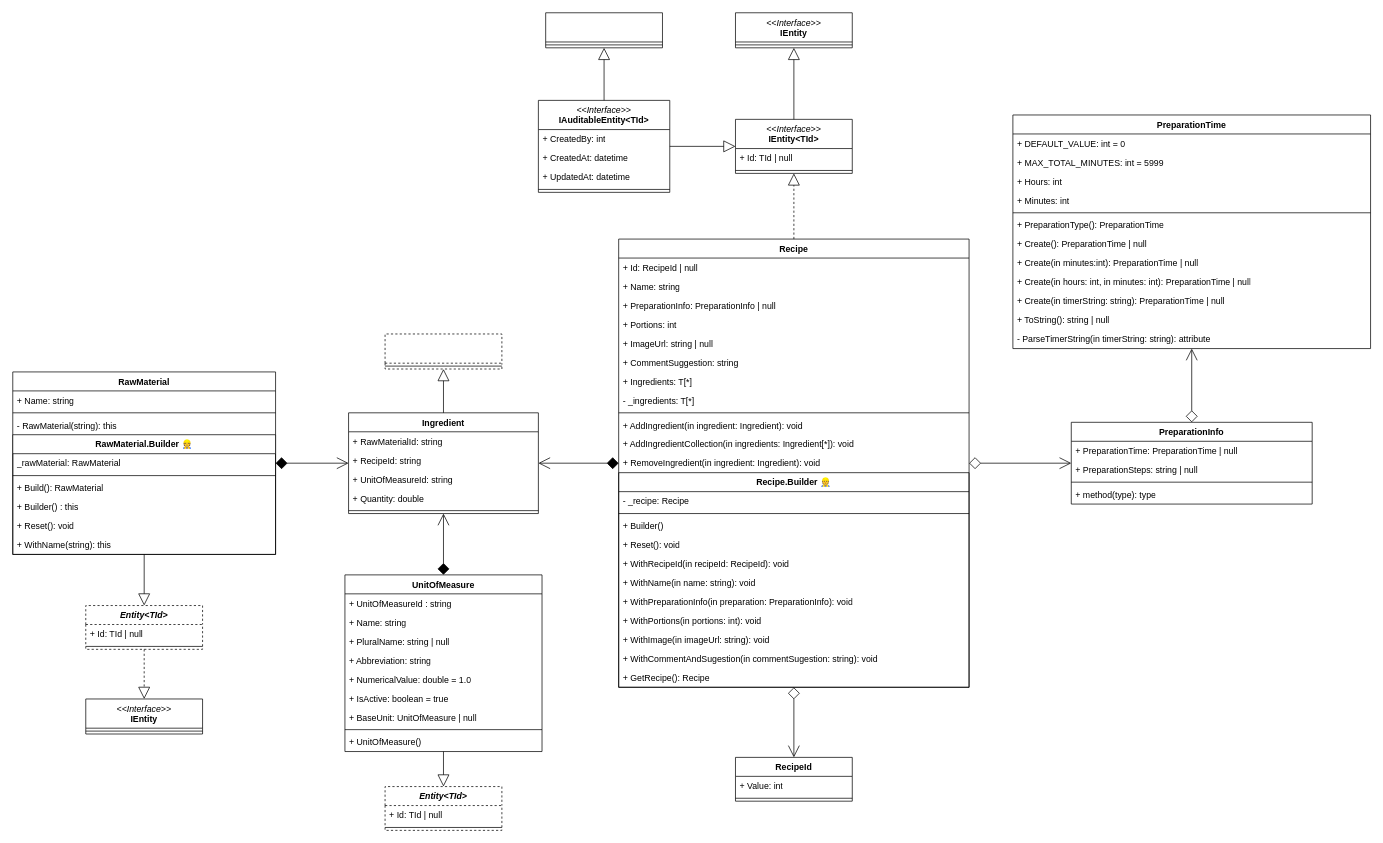
Some shapes in this 1383 by 843 pixel diagram are drawn without their labels. Here are the shapes that lost their labels. From the top down, the centre of each, then its label:
At (603,30): "<<Interface>> IAuditableEntity".
At (443,351): "<<Interface>> IValueObject".
